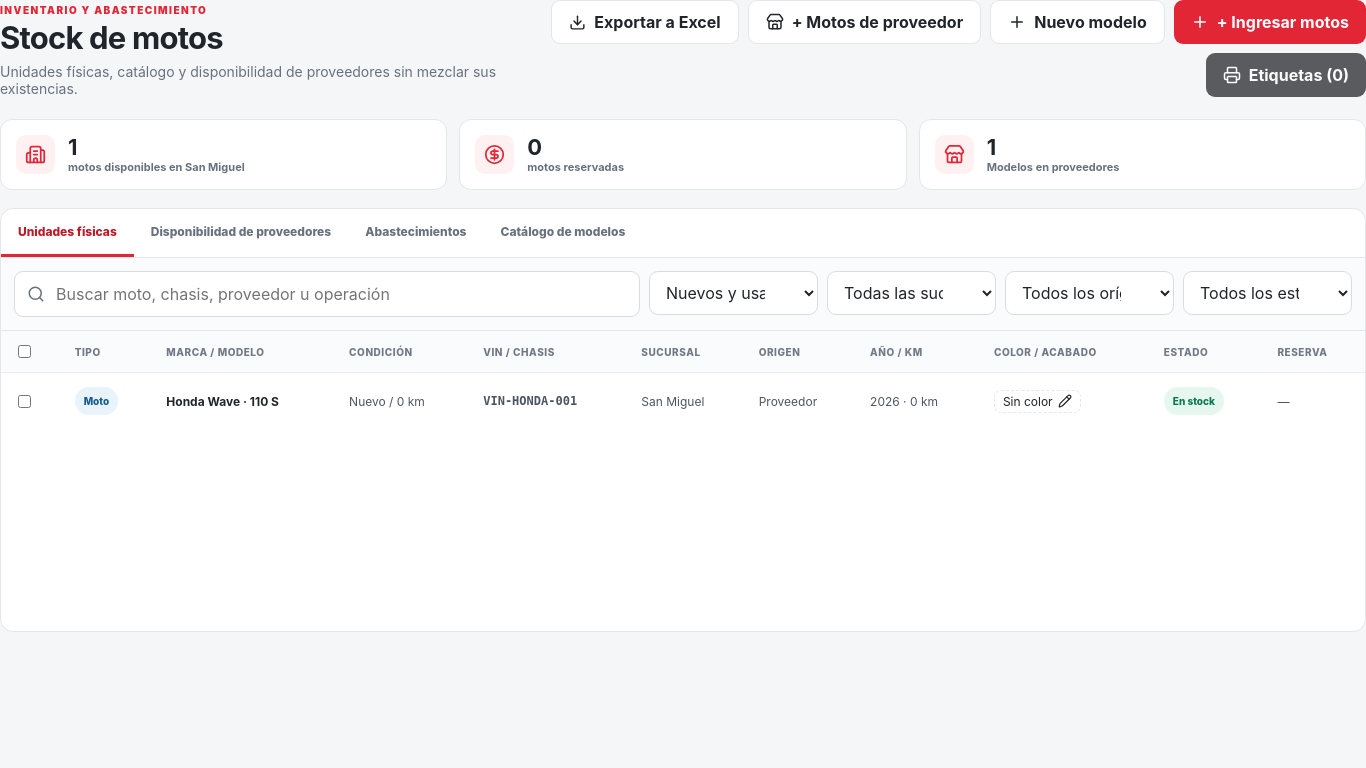
Test: workspace de stock › da de alta un modelo con precio sin cargar stock
This screenshot has width=1366, height=768.
Click the button "Nuevo modelo".
click(1077, 22)  # box [990,0,1165,44]
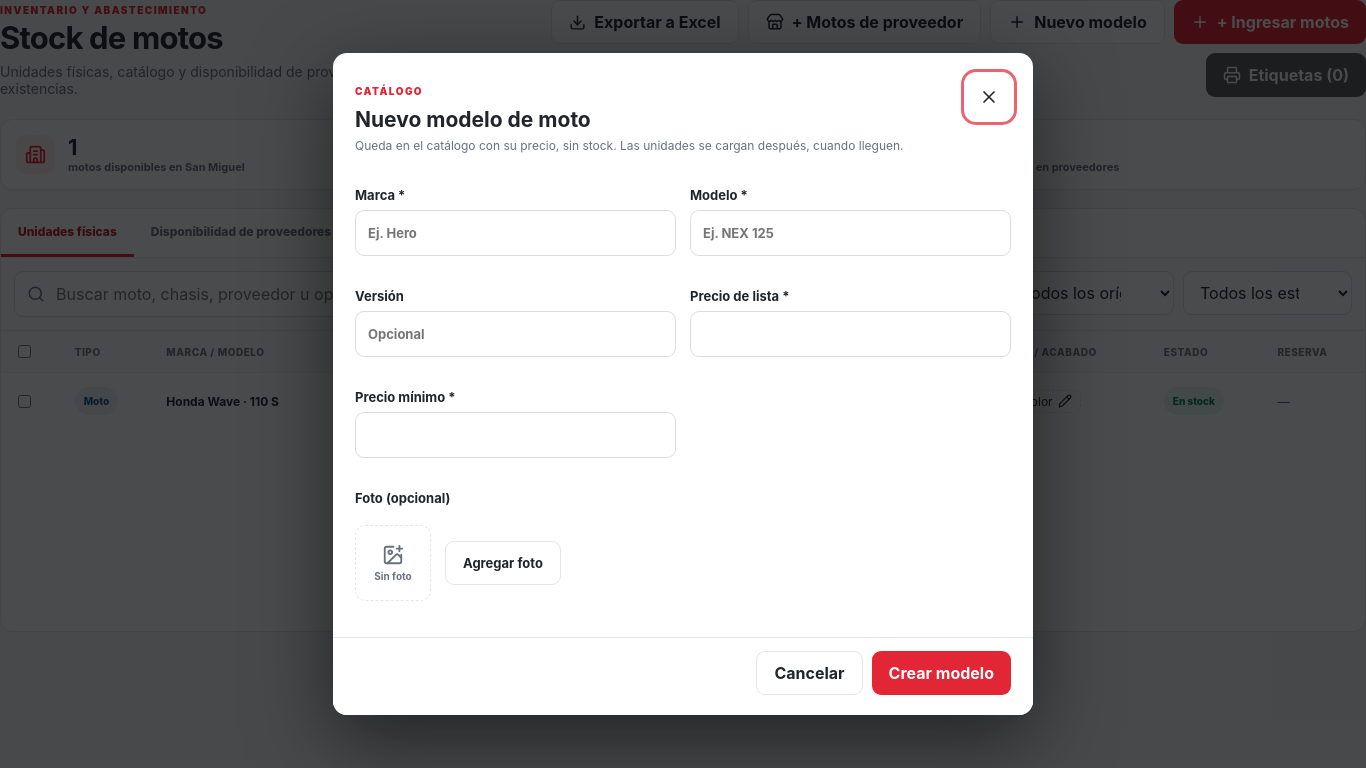
Type "Hero" into the field labelled "Marca *".
click(516, 233); type("Hero")  # box [355,210,676,256]
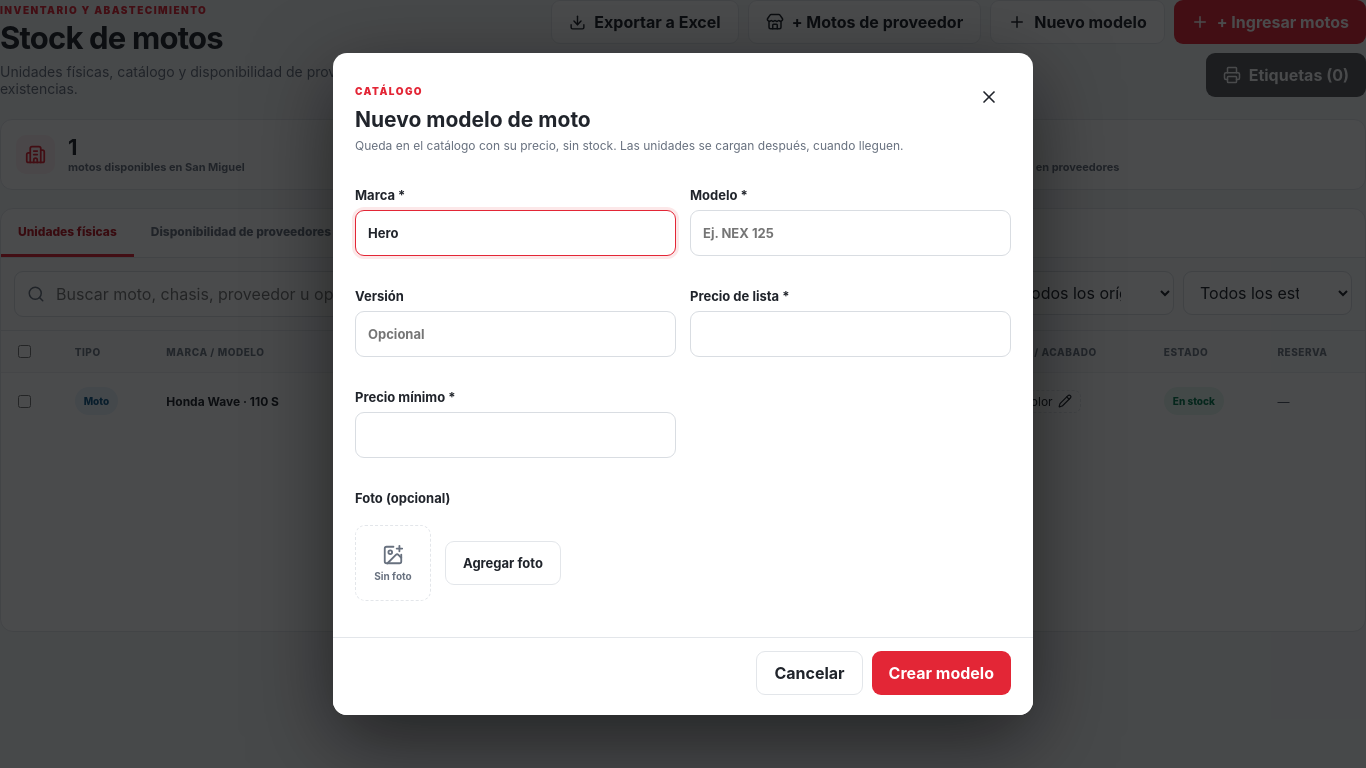
Type "NEX 125" into the field labelled "Modelo *".
click(850, 233); type("NEX 125")  # box [690,210,1011,256]
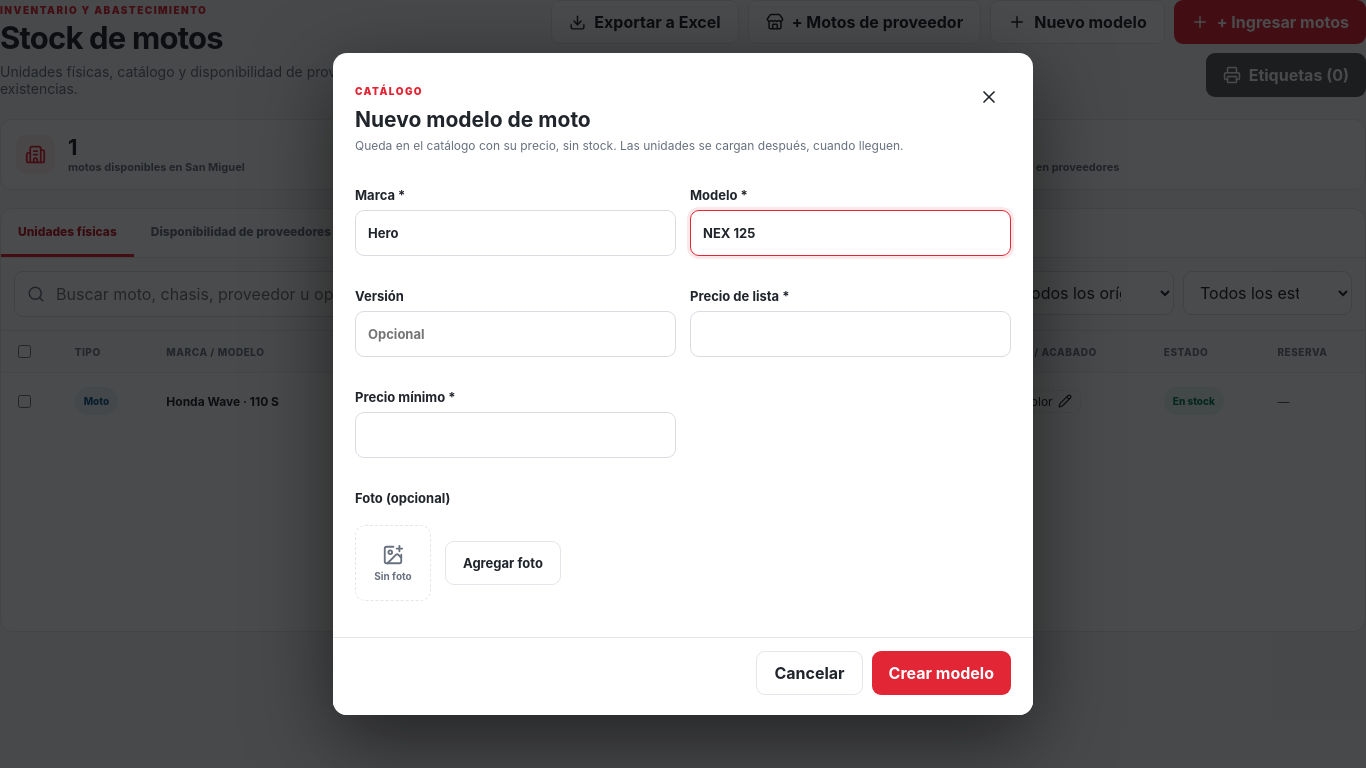
Type "3125000" into the number field labelled "Precio de lista *".
click(850, 334); type("3125000")  # box [690,311,1011,357]
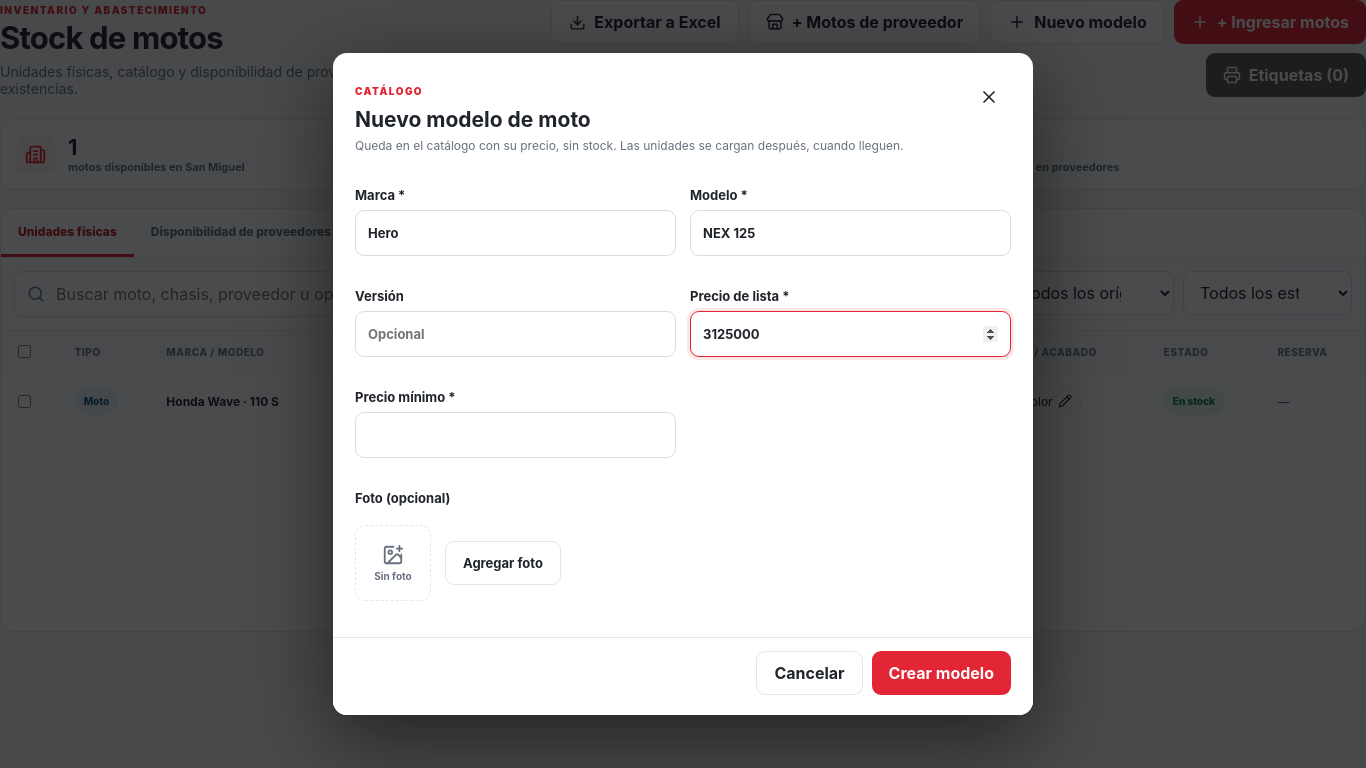
Type "3125000" into the number field labelled "Precio mínimo *".
click(516, 435); type("3125000")  # box [355,412,676,458]
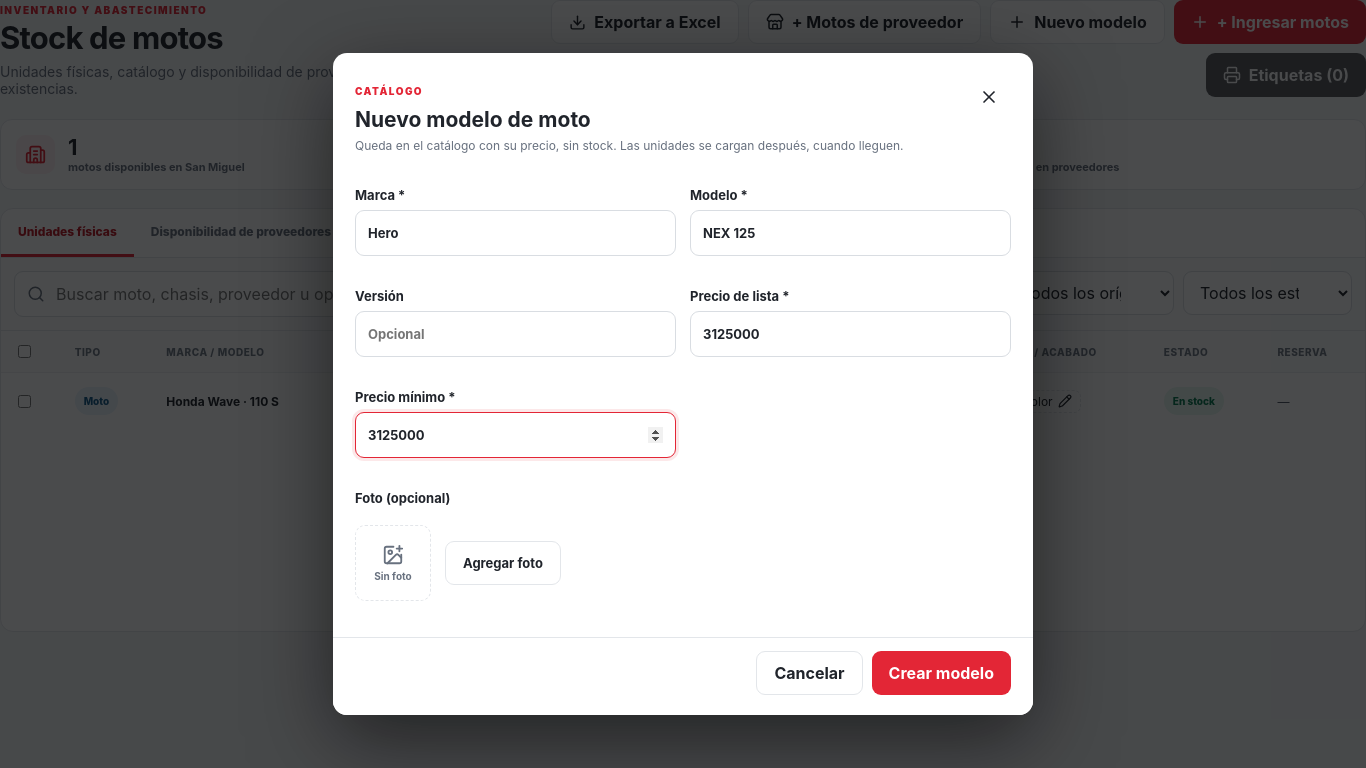
Click the button "Crear modelo".
click(941, 673)  # box [872,651,1011,695]
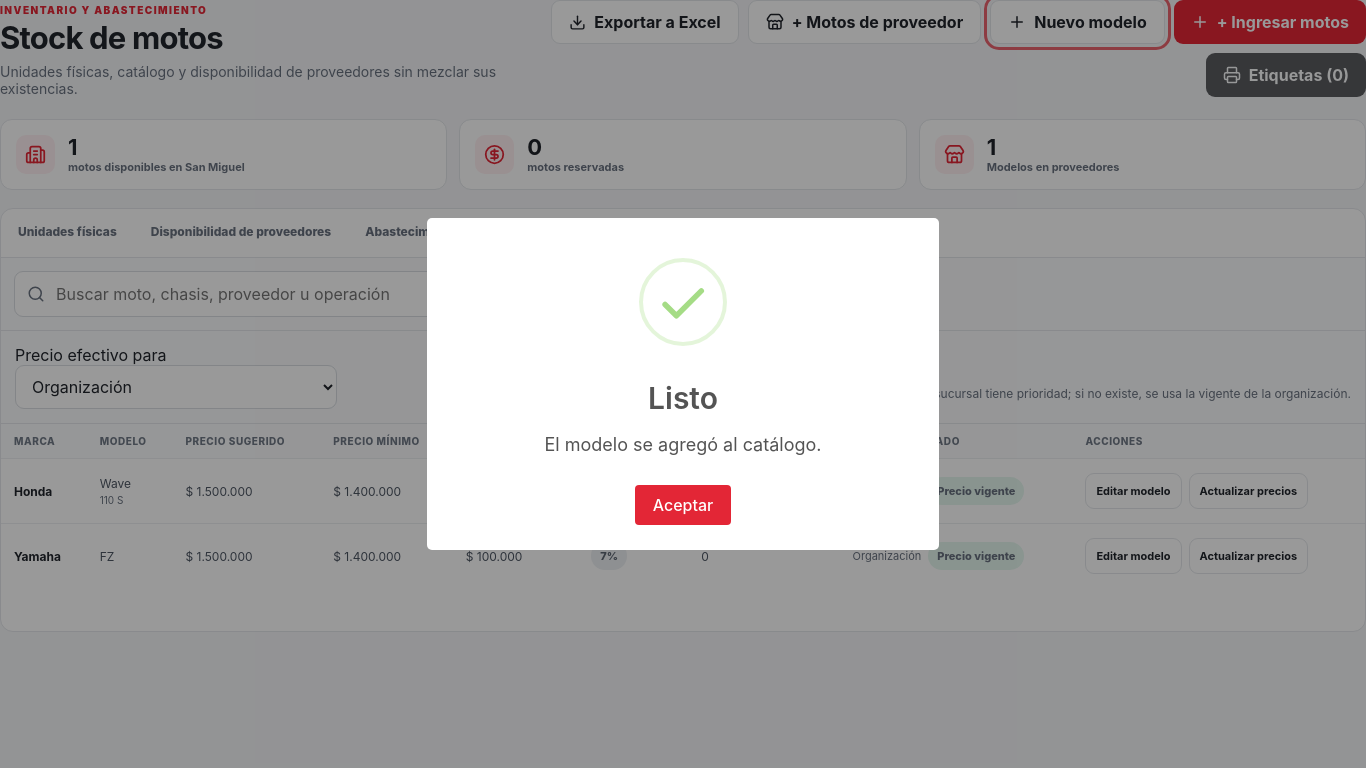
expect the heading "Nuevo modelo de moto" is gone: met
